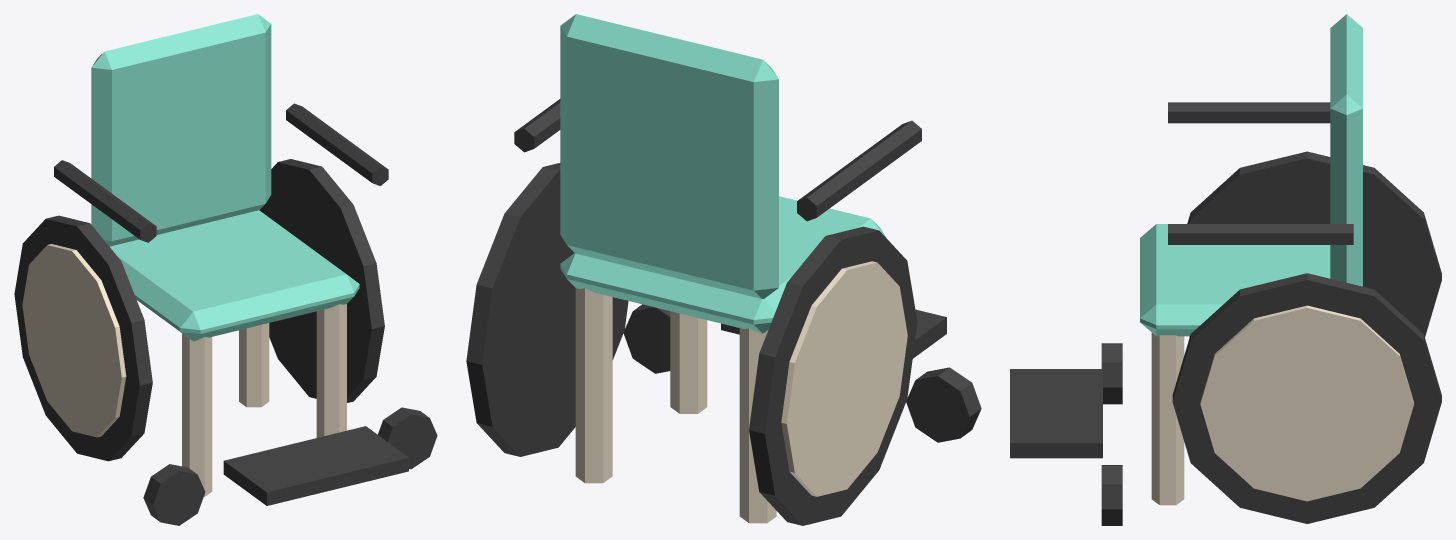
The picture shows the model from 3 angles, left to right: view 1: azimuth 30°, elevation 25°; view 2: azimuth 150°, elevation 25°; view 3: azimuth 270°, elevation 25°; orthographic projection. The views are drawn at different scales.
Visible parts, largest first — view 1: Backrest, Seat, Push rim, Rear wheel.001, Rear wheel, Footplate, Leg, Leg.002, Wheel, Armrest.001, Armrest, Leg.003 (+1 smaller); view 2: Backrest, Rear wheel.001, Push rim, Rear wheel, Seat, Leg.003, Wheel, Armrest, Leg.001, Leg.002, Wheel.001, Armrest.001 (+1 smaller); view 3: Push rim.001, Rear wheel.001, Rear wheel, Seat, Footplate, Backrest, Leg.002, Armrest.001, Armrest, Wheel.001, Wheel.
Boxes of the visible parts, x1,y1,x2,y2 form: Backrest: (91, 14, 271, 246); Seat: (110, 210, 359, 341); Push rim: (22, 244, 126, 437); Rear wheel.001: (259, 159, 384, 402); Rear wheel: (14, 215, 152, 461); Footplate: (223, 426, 408, 505); Leg: (182, 333, 212, 496); Leg.002: (316, 304, 346, 437); Wheel: (143, 464, 205, 525); Armrest.001: (286, 103, 388, 185); Armrest: (54, 160, 156, 242); Leg.003: (239, 323, 269, 407); Backrest: (560, 14, 778, 298); Rear wheel.001: (466, 163, 628, 456); Push rim: (781, 261, 907, 496); Rear wheel: (749, 226, 917, 525); Seat: (560, 196, 886, 333); Leg.003: (575, 288, 612, 483); Wheel: (906, 367, 981, 442); Armrest: (797, 120, 921, 221); Leg.001: (739, 328, 776, 523); Leg.002: (670, 311, 707, 413); Wheel.001: (623, 304, 670, 373); Armrest.001: (514, 99, 560, 152); Push rim.001: (1200, 305, 1413, 501); Rear wheel.001: (1172, 273, 1441, 523); Rear wheel: (1187, 151, 1441, 337); Seat: (1140, 224, 1330, 336); Footplate: (1010, 369, 1102, 458); Backrest: (1330, 14, 1362, 286); Leg.002: (1151, 332, 1184, 505); Armrest.001: (1168, 224, 1353, 244); Armrest: (1168, 102, 1330, 123); Wheel.001: (1101, 465, 1122, 525); Wheel: (1101, 343, 1122, 404).
Bounding box in the file's own units: 0.76 × 0.9737 × 0.93.
Materials: 1 (1 with a texture image).
